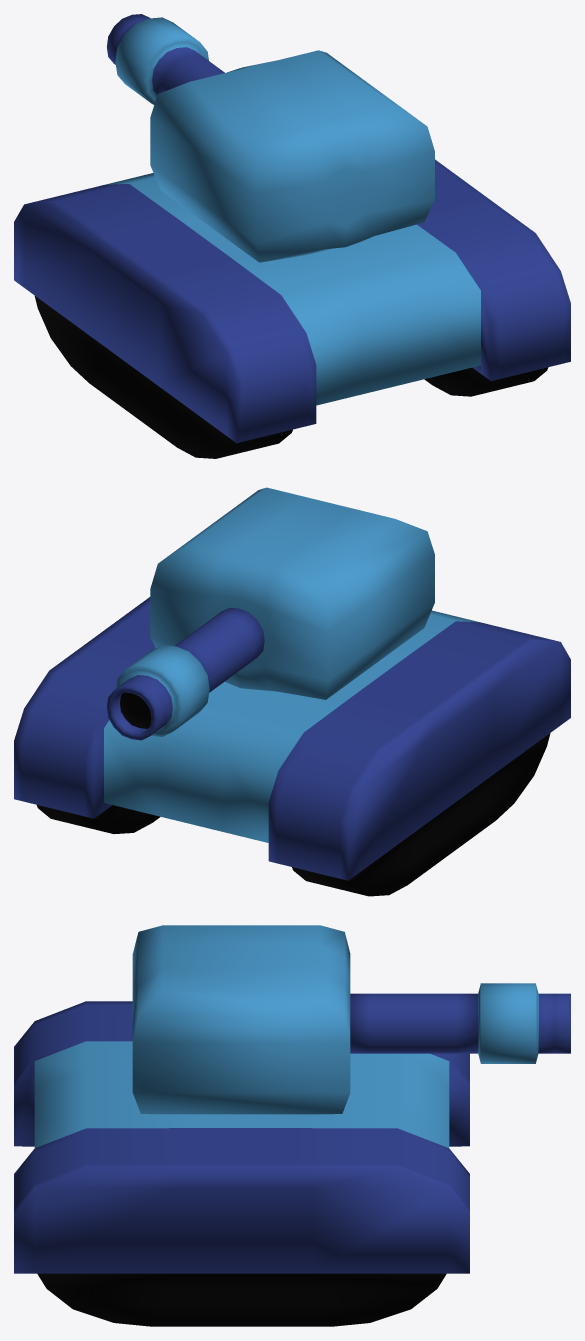
File: InvisibleBoost.fbx
The picture shows the model from 3 angles, top to bottom: view 1: azimuth 30°, elevation 25°; view 2: azimuth 150°, elevation 25°; view 3: azimuth 270°, elevation 25°; orthographic projection. The views are drawn at different scales.
Parts seen in each view (by area): view 1: Tank; view 2: Tank; view 3: Tank.
Part boxes in pixels (left/top/right/bottom): Tank: left=14, top=14, right=570, bottom=458; Tank: left=14, top=487, right=570, bottom=896; Tank: left=14, top=925, right=570, bottom=1326.
Bounding box in the file's own units: 191 × 154 × 269.
